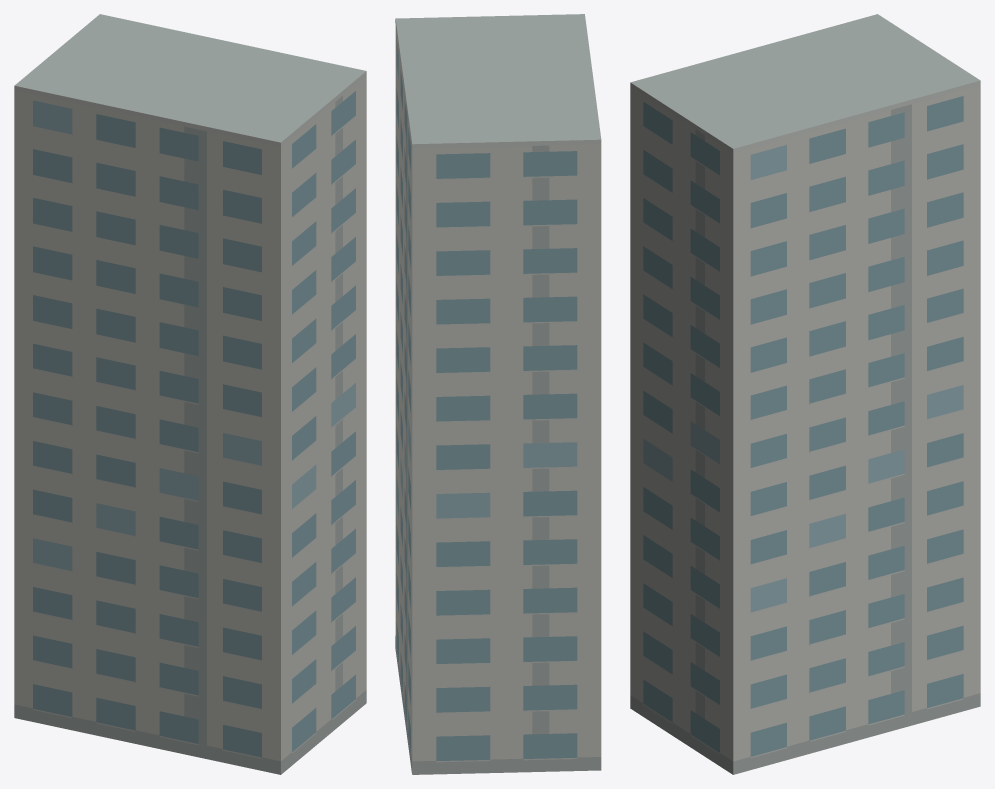
File: residential-2fcd0aa9-1b29-4095-a532-b116d4838fce.glb
The picture shows the model from 3 angles, left to right: view 1: azimuth 30°, elevation 25°; view 2: azimuth 150°, elevation 25°; view 3: azimuth 270°, elevation 25°; orthographic projection.
Parts seen in each view (by area): view 1: residential-2fcd0aa9-1b29-4095-a532-b116d4838fce.tmp; view 2: residential-2fcd0aa9-1b29-4095-a532-b116d4838fce.tmp; view 3: residential-2fcd0aa9-1b29-4095-a532-b116d4838fce.tmp.
Part boxes in pixels (box(x1,y1,x2,y2)): residential-2fcd0aa9-1b29-4095-a532-b116d4838fce.tmp: box(14, 14, 366, 774); residential-2fcd0aa9-1b29-4095-a532-b116d4838fce.tmp: box(395, 14, 601, 774); residential-2fcd0aa9-1b29-4095-a532-b116d4838fce.tmp: box(630, 14, 980, 774).
Bounding box in the file's own units: 15.26 × 33 × 16.75.
